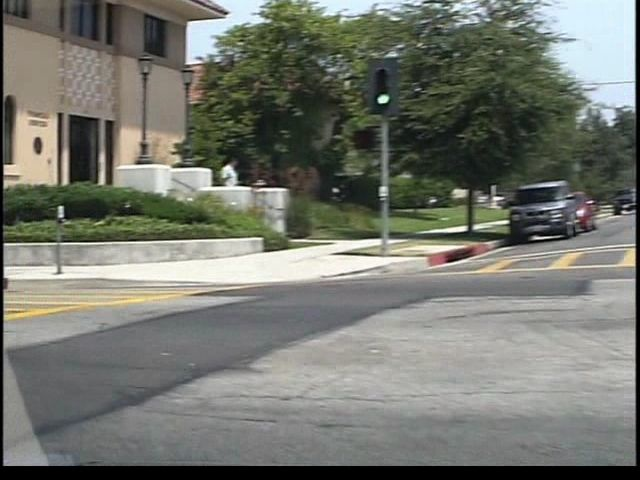person: (208, 151, 231, 220)
